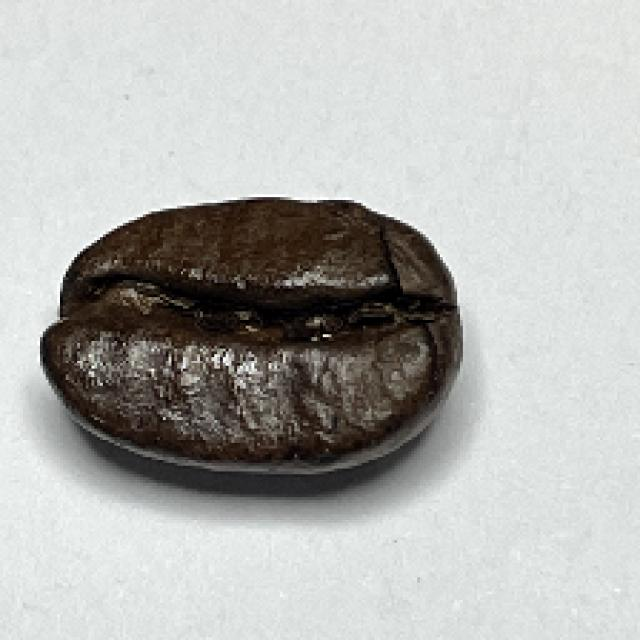bean: (39, 198, 464, 473)
